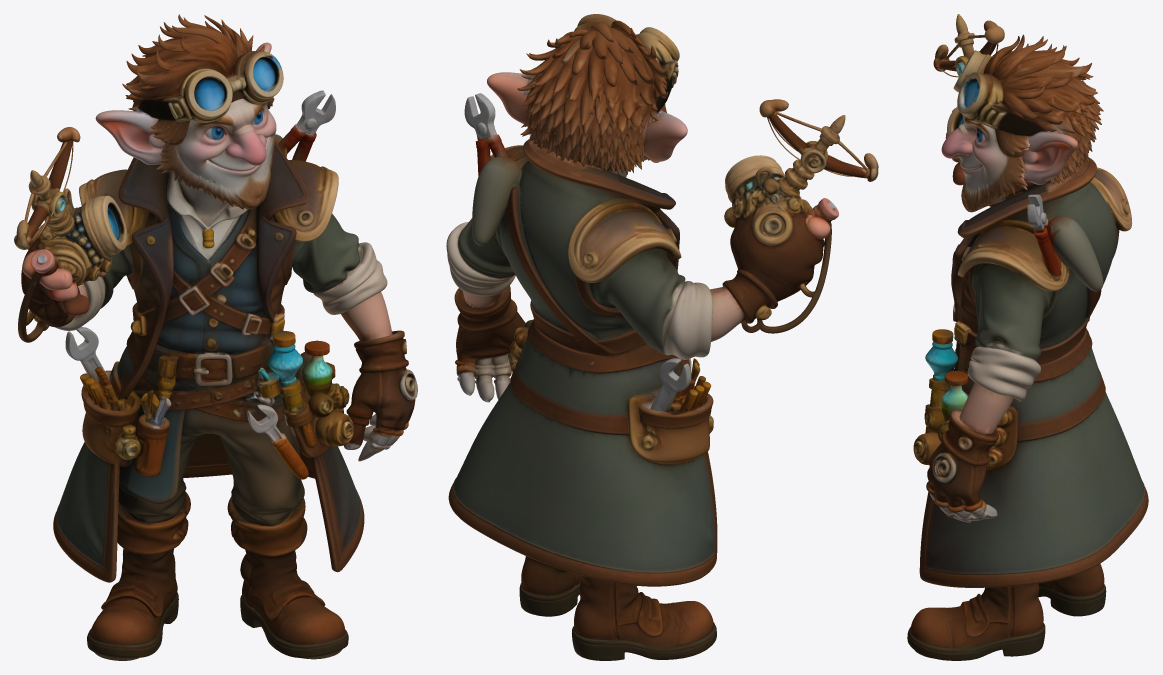
File: halfling_artificer_full_male_01.glb
3 views of the same model, side by side, from view 1: azimuth 30°, elevation 25°; view 2: azimuth 150°, elevation 25°; view 3: azimuth 270°, elevation 25° (orthographic). The views are drawn at different scales.
Parts seen in each view (by area): view 1: material; view 2: material; view 3: material.
Boxes of the visible parts, left/top/right/bottom form: material: left=14, top=14, right=417, bottom=660; material: left=446, top=14, right=878, bottom=660; material: left=907, top=14, right=1148, bottom=660.
Bounding box in the file's own units: 0.7635 × 1.07 × 0.4109.
Materials: 1 (1 with a texture image).
